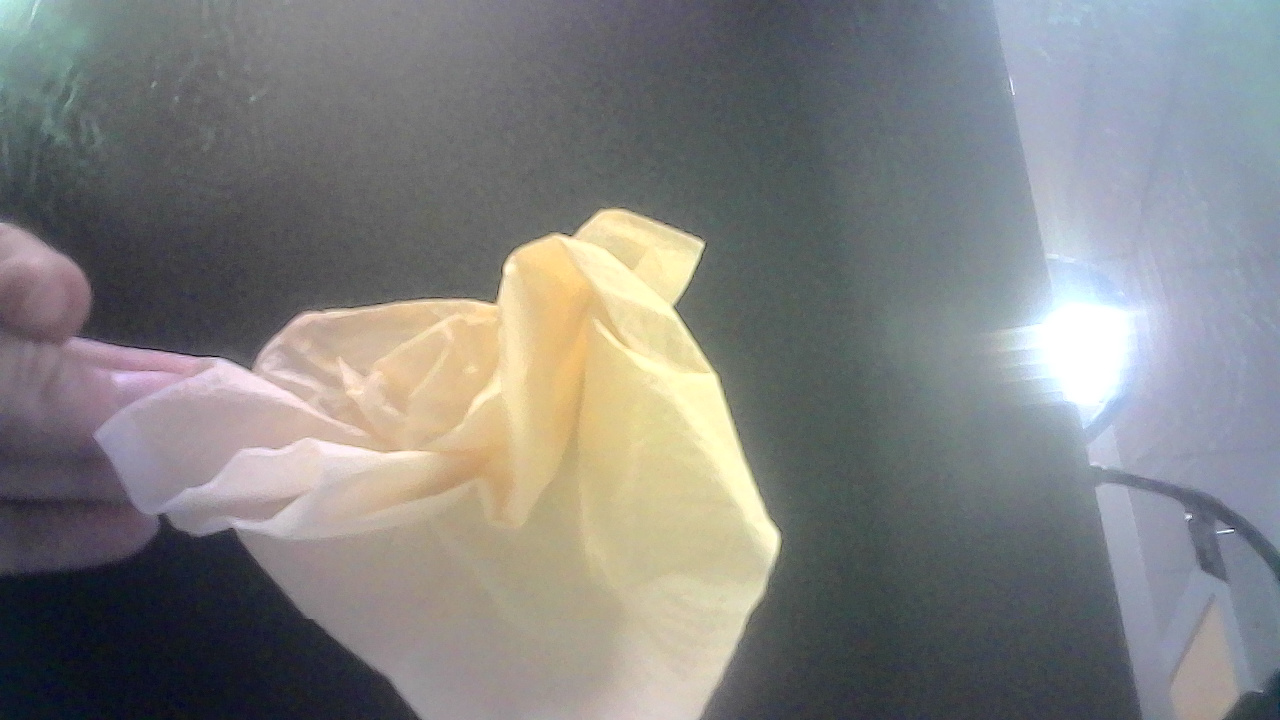Paper_Recycling: (128, 207, 831, 716)
